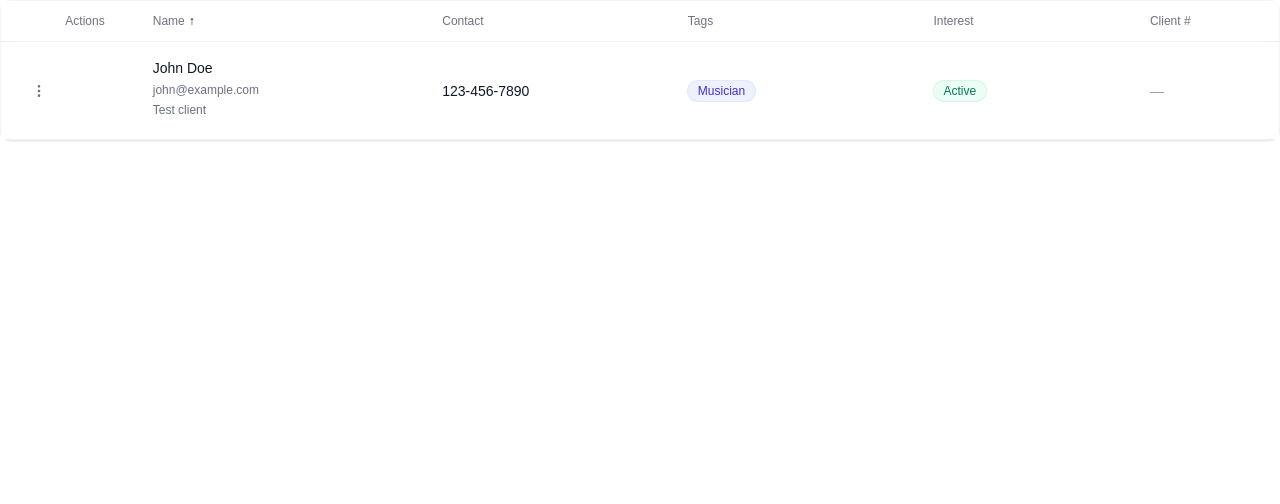
ClientList › accessibility › links expanded details via aria-controls to a real element id
Click the button "John Doe john@example.com Test client" at (273, 88), box [153,58,394,118]
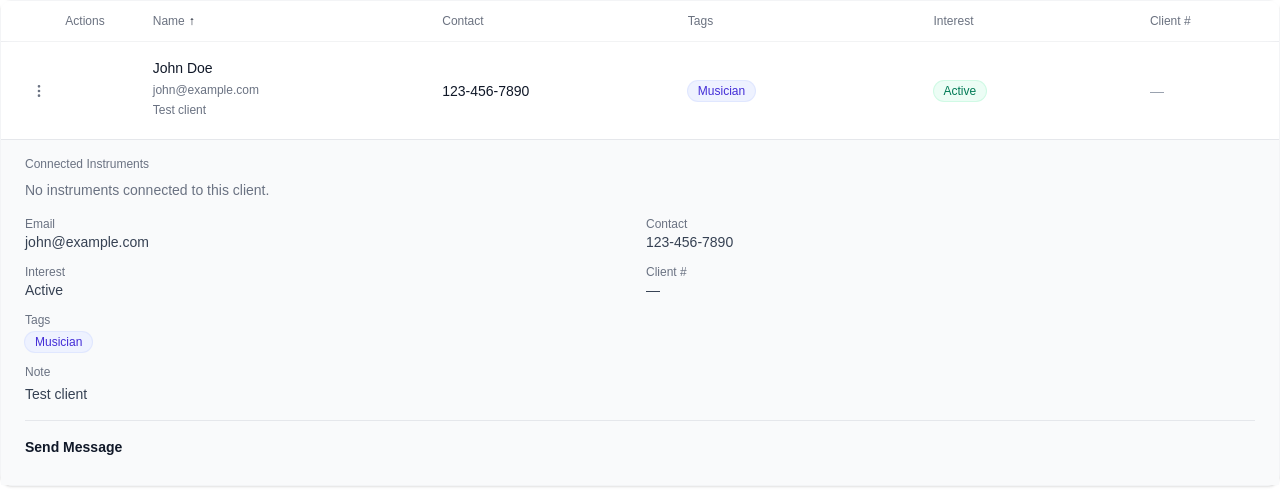
Result: the element with id "client-details-1" is shown at [25,156,1255,457]
